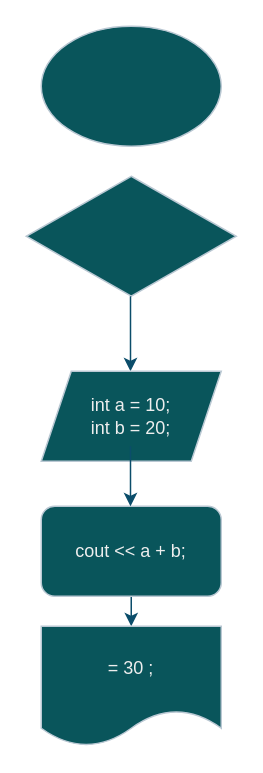
Image size: 263x773. Some labels were removed from this diagram. Each missing label, with the box of its shape:
Простенький алгоритм сложения двух чисел: (40, 25, 221, 146)
Сложения двух чисел: (25, 175, 236, 296)
